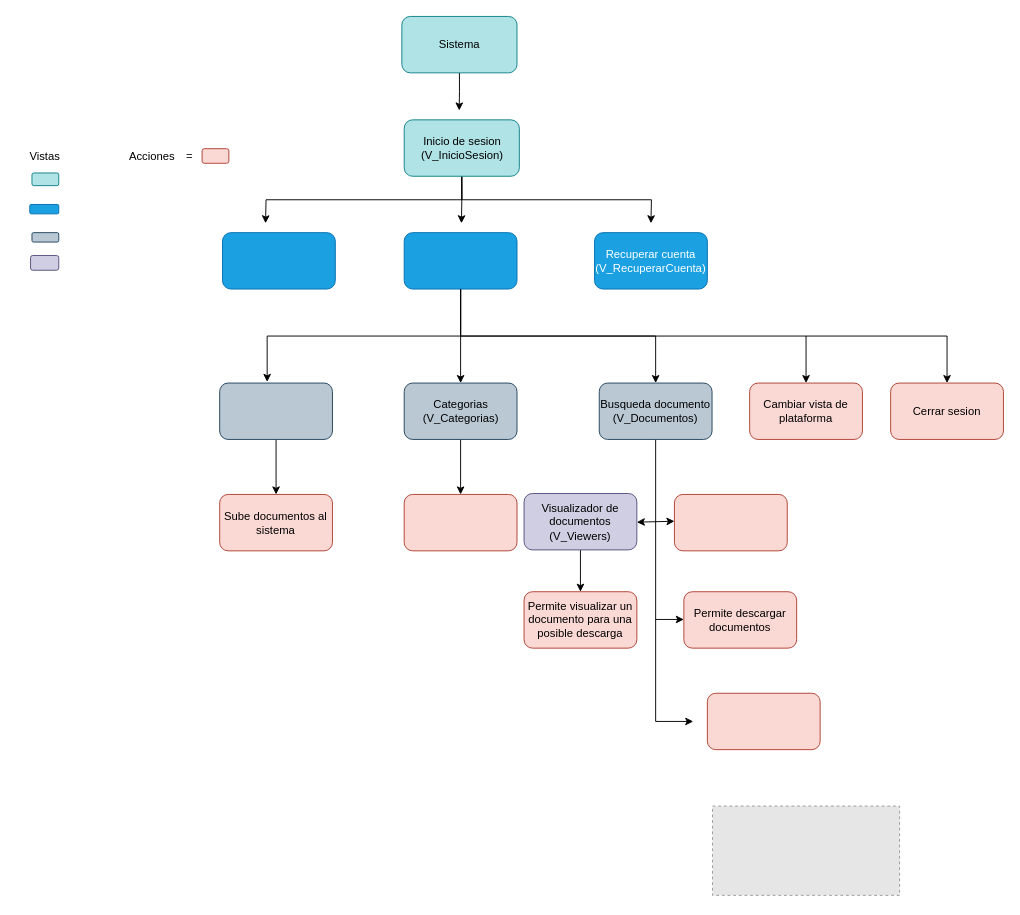
Image size: 1020x915. Some labels were removed from this diagram. Grey dashed boxes stand in for pictures. Each missing label, with the centre of its shape:
"Agregar documentos (V_agregadocumento)" goes at (x=275, y=410).
"Asigna categorias a un documento" goes at (x=460, y=522).
"Permite buscar un documento mediante filtros" goes at (x=730, y=522).
"Permite visualizar estadisticas sobre formularios." goes at (x=763, y=721).
"Registro (V_Registro)" goes at (x=278, y=260).
"Vista Usuario (V_Usuario)" goes at (x=460, y=260).
